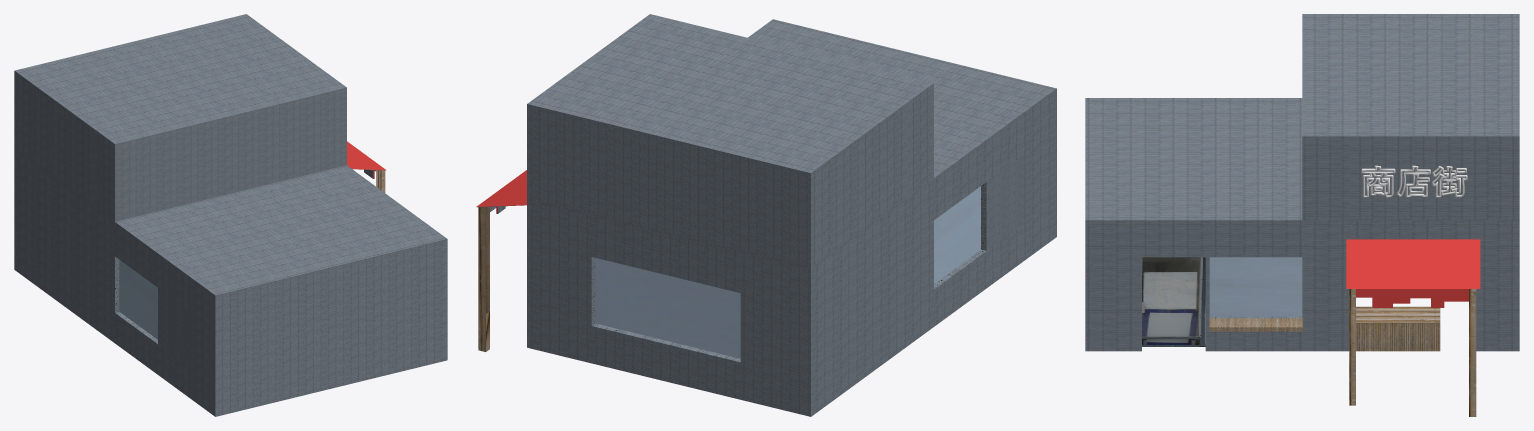
Rendered from build2.fbx.
3 views of the same model, side by side, from view 1: azimuth 30°, elevation 25°; view 2: azimuth 150°, elevation 25°; view 3: azimuth 270°, elevation 25° (orthographic). The views are drawn at different scales.
Parts seen in each view (by area): view 1: main, window; view 2: main, window; view 3: main, door, window, 商店街.
Part boxes in pixels (x1=…): main: x1=14, y1=14, x2=447, y2=416; window: x1=119, y1=260, x2=157, y2=339; main: x1=476, y1=14, x2=1056, y2=416; window: x1=595, y1=186, x2=980, y2=358; main: x1=1085, y1=14, x2=1519, y2=416; door: x1=1142, y1=257, x2=1205, y2=346; window: x1=1209, y1=257, x2=1302, y2=316; 商店街: x1=1361, y1=165, x2=1467, y2=197.
Bounding box in the file's own units: 25.16 × 19 × 30.
7 materials, 5 textured.
